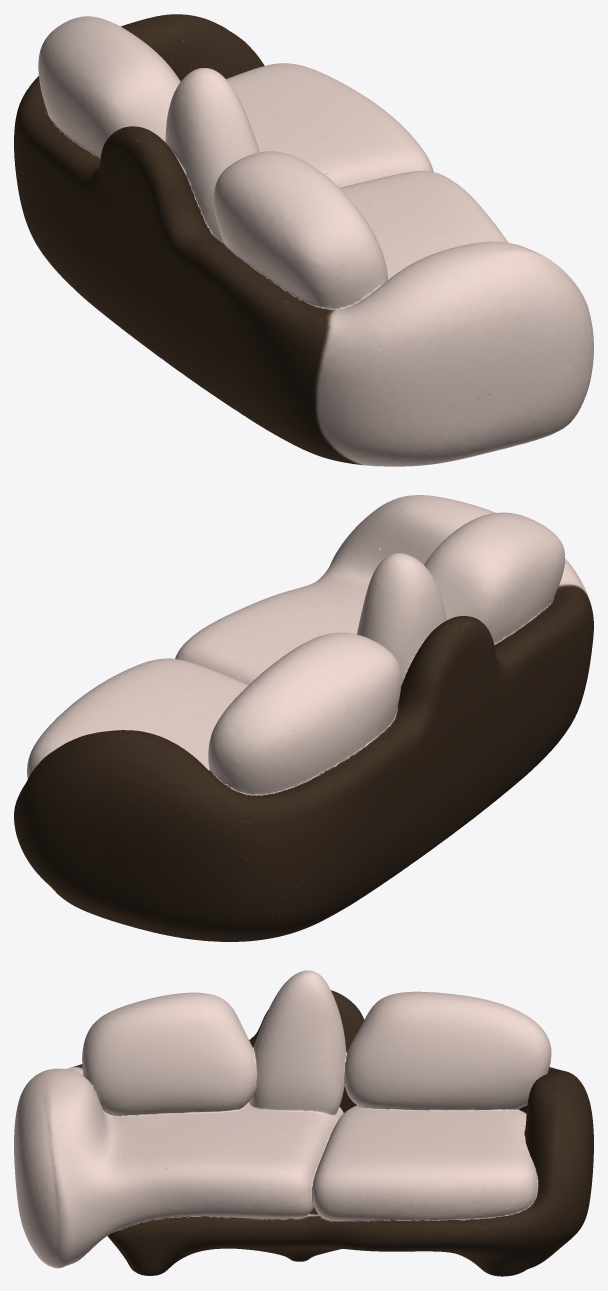
File: Organic Biomorphic Two-Seater Sofa [RFnH3q].glb
The picture shows the model from 3 angles, top to bottom: view 1: azimuth 30°, elevation 25°; view 2: azimuth 150°, elevation 25°; view 3: azimuth 270°, elevation 25°; orthographic projection. The views are drawn at different scales.
Visible parts, largest first — view 1: world; view 2: world; view 3: world.
Part boxes in pixels (x1,y1,x2,y2): world: (14, 14, 593, 466); world: (14, 495, 593, 941); world: (14, 970, 593, 1276).
Size of the model in its own units: 0.5314 by 0.4264 by 1.
Materials: 1 (1 with a texture image).
